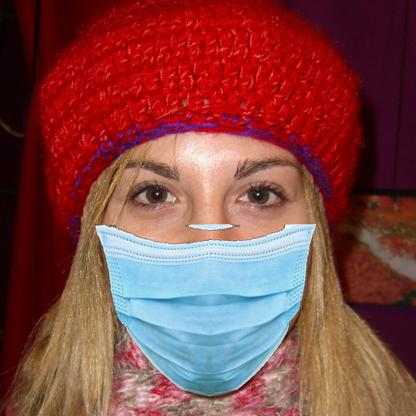mask: (95, 223, 303, 399)
